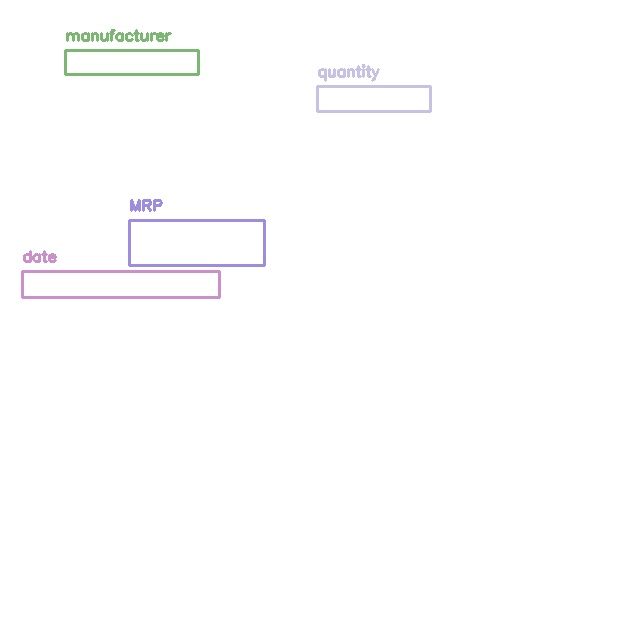MRP: (129, 220, 264, 265)
date: (22, 271, 219, 297)
manufacturer: (65, 50, 198, 74)
quantity: (317, 86, 430, 111)
